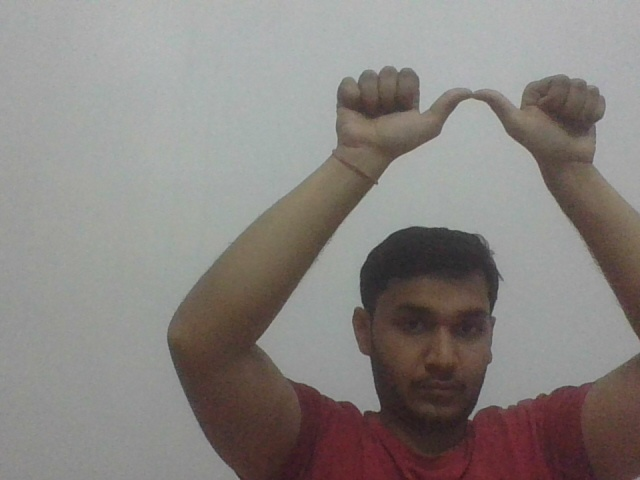A: (331, 62, 608, 165)
